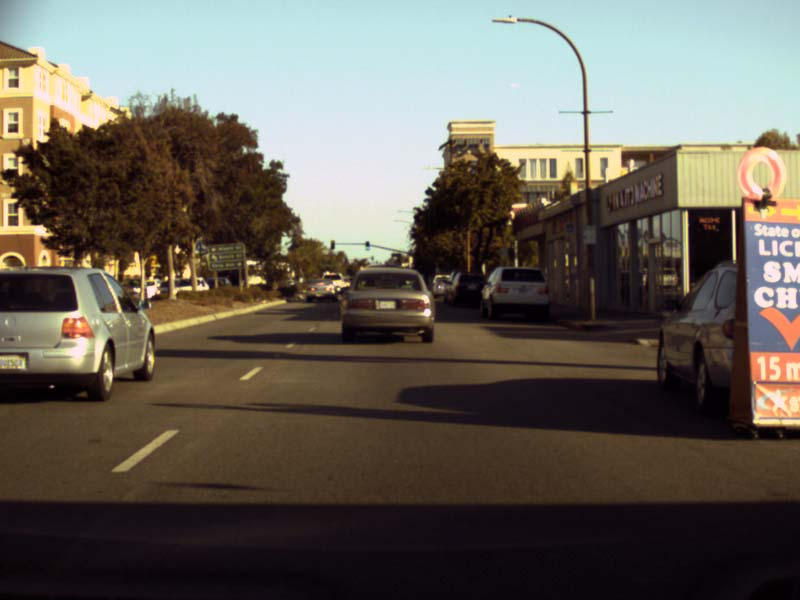Green: (365, 242, 369, 250)
Red: (329, 240, 333, 248)
